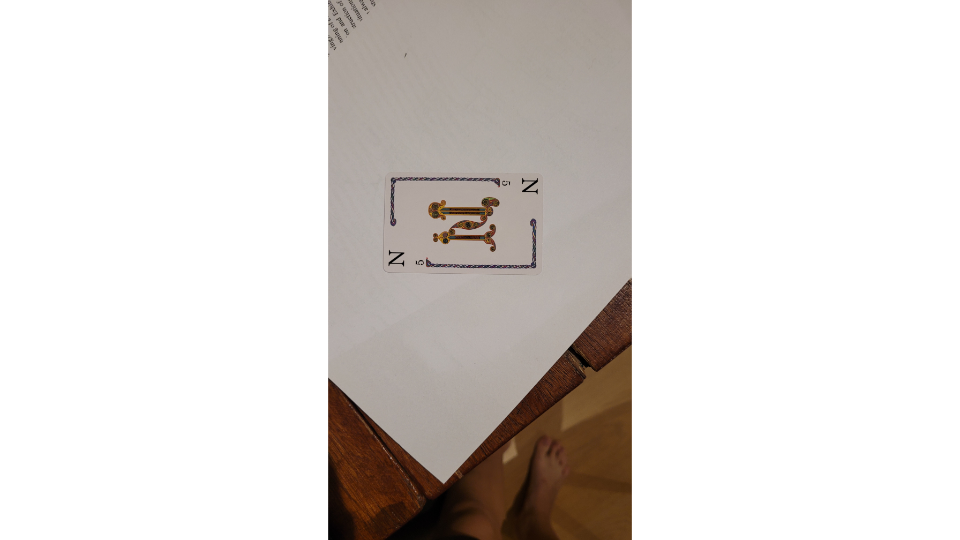N: (379, 167, 550, 279)
